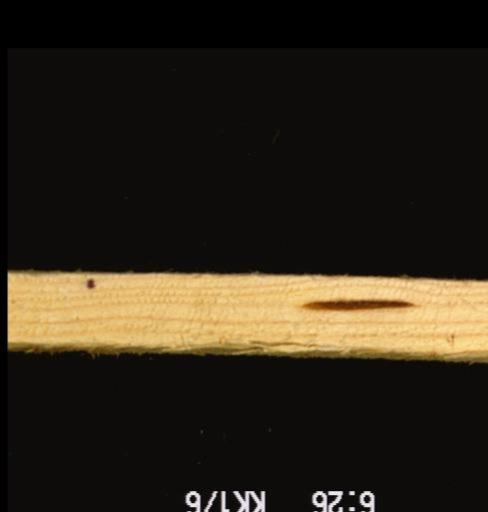split: (244, 337, 338, 350)
